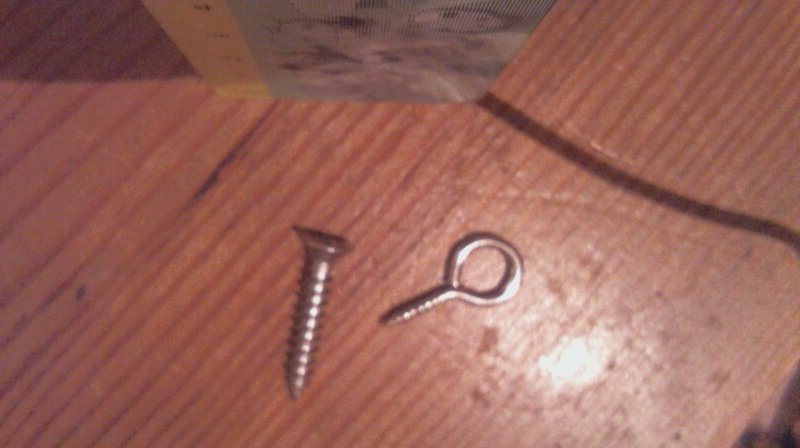O001: (371, 230, 524, 328)
S001: (280, 227, 351, 403)
